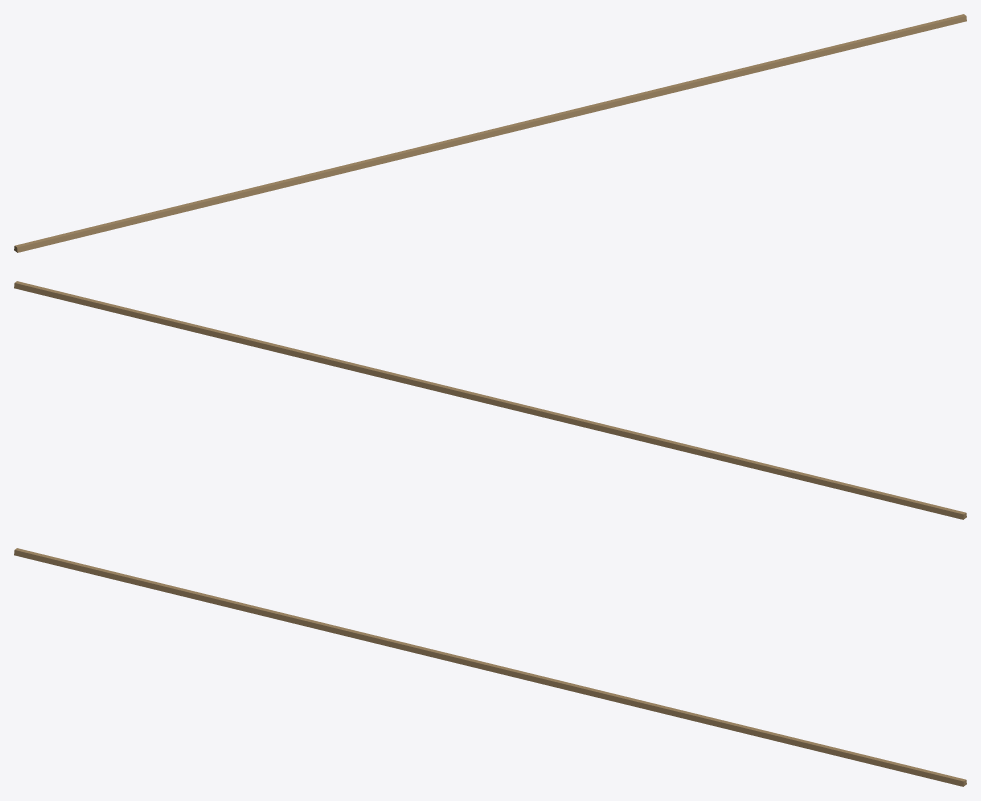
File: westwall10-LOD2.glb
The picture shows the model from 3 angles, top to bottom: view 1: azimuth 30°, elevation 25°; view 2: azimuth 150°, elevation 25°; view 3: azimuth 330°, elevation 25°; orthographic projection.
Parts seen in each view (by area): view 1: westwall10-static_earth; view 2: westwall10-static_earth; view 3: westwall10-static_earth.
Part boxes in pixels (<box>): westwall10-static_earth: <box>14,14,966,252</box>; westwall10-static_earth: <box>14,281,966,519</box>; westwall10-static_earth: <box>14,548,966,786</box>.
Size of the model in its own units: 1203 by 6.03 by 8.
